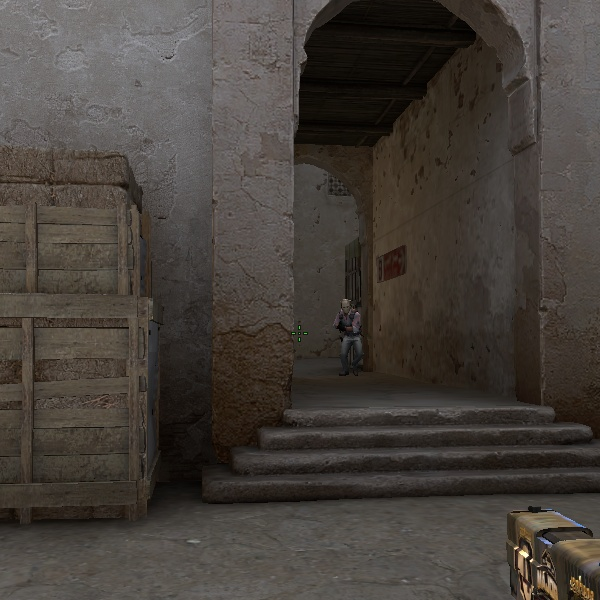t_body: (331, 297, 365, 376)
t_head: (340, 298, 352, 315)
